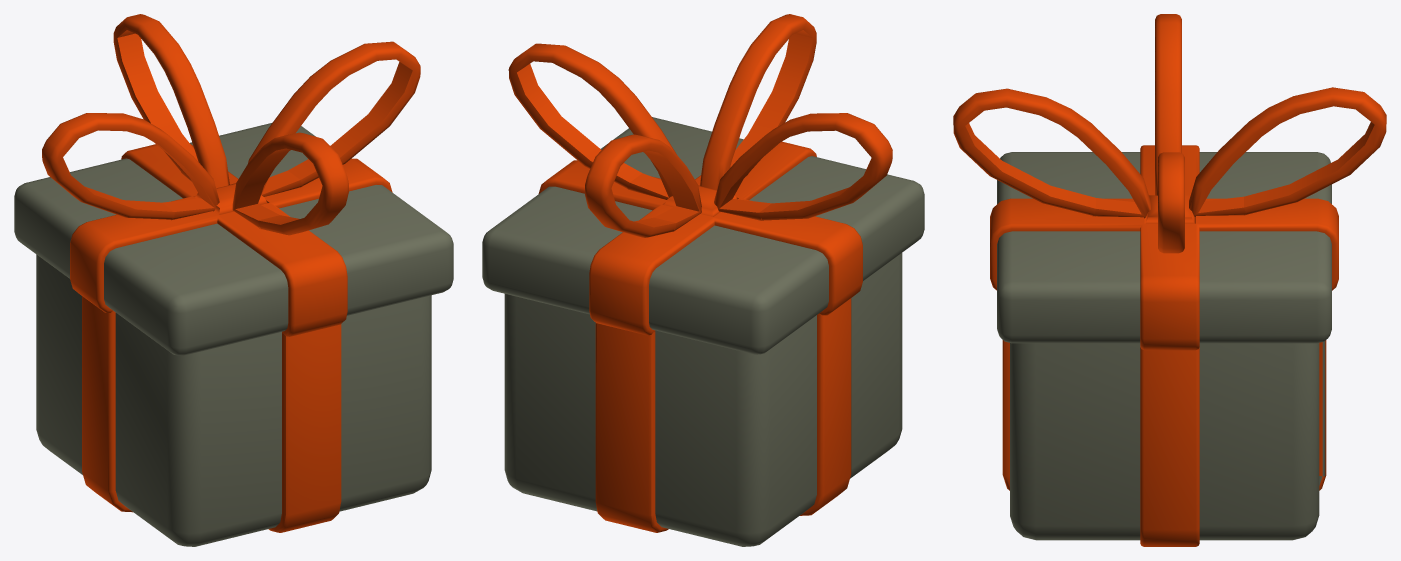
Rendered from Gift Box_2.fbx.
3 views of the same model, side by side, from view 1: azimuth 30°, elevation 25°; view 2: azimuth 150°, elevation 25°; view 3: azimuth 270°, elevation 25° (orthographic).
Parts seen in each view (by area): view 1: Gift Box_2; view 2: Gift Box_2; view 3: Gift Box_2.
Boxes of the visible parts, left/top/right/bottom form: Gift Box_2: left=14, top=14, right=453, bottom=546; Gift Box_2: left=482, top=14, right=924, bottom=546; Gift Box_2: left=953, top=14, right=1386, bottom=546.
Size of the model in its own units: 0.3616 by 0.3673 by 0.3616.
